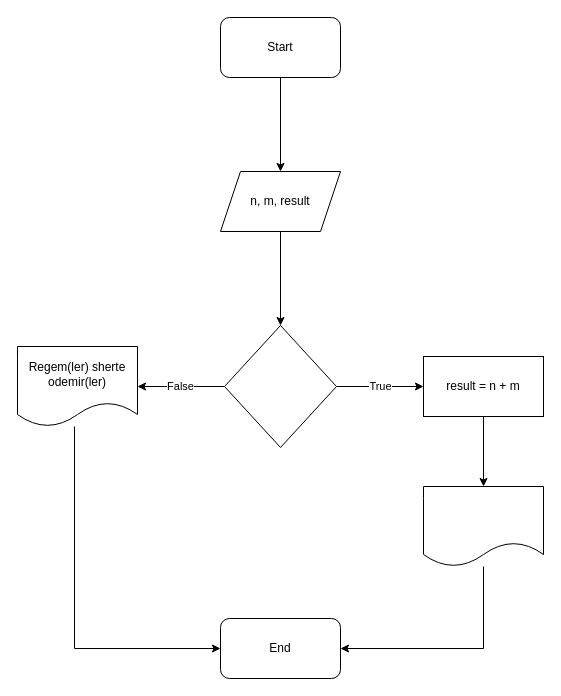
Image size: 561x696. Some labels were removed from this diagram. Here are the shapes that lost their labels. From the top down, the box of each, then its label:
(224, 324, 336, 448): n % 2 == 0 && m % 2 == 0
(422, 486, 544, 566): result
